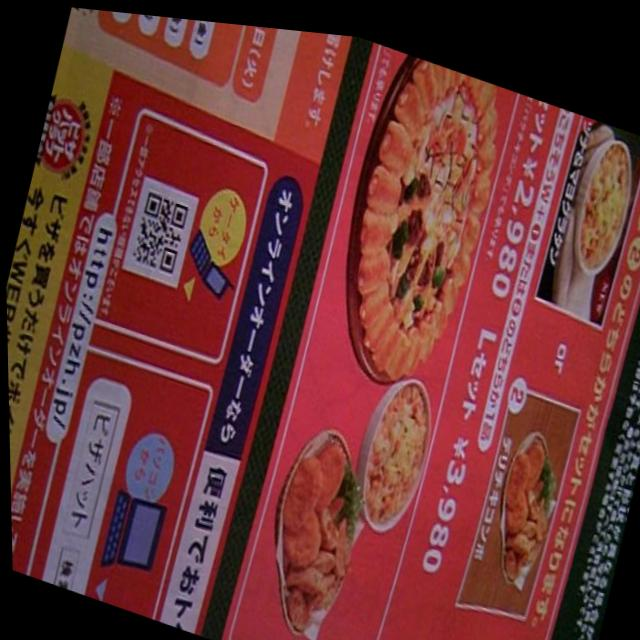qrcode: (131, 188, 189, 271)
